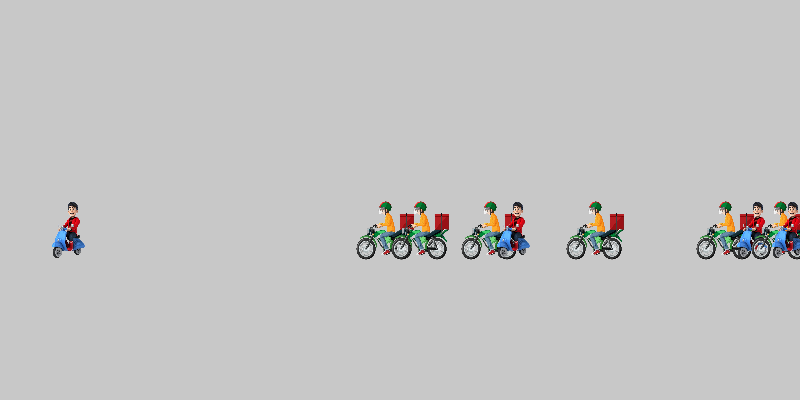helmet: (355, 200, 415, 260), (390, 200, 450, 260), (460, 200, 520, 260), (565, 200, 625, 260), (695, 200, 755, 260), (750, 200, 800, 260)
no_helmet: (40, 200, 100, 260), (485, 200, 545, 260), (725, 200, 785, 260), (760, 200, 800, 260)
